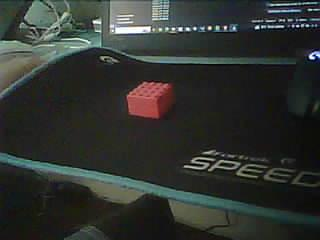lego: (126, 81, 175, 119)
